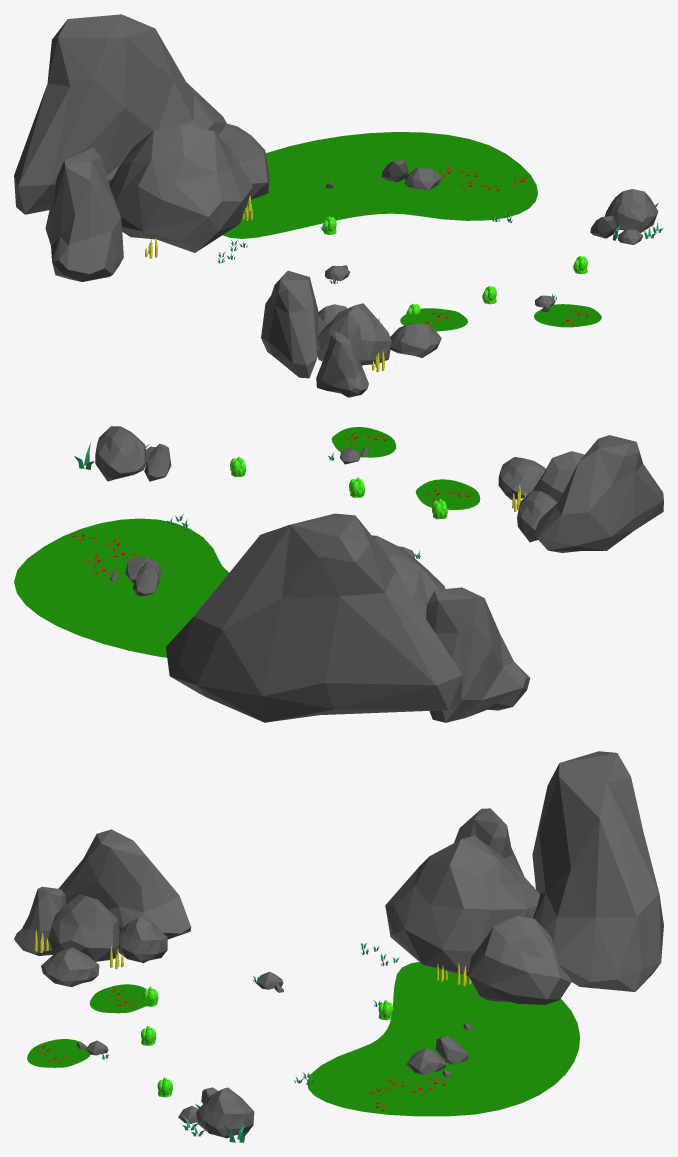
File: tmgtchi.glb
The picture shows the model from 3 angles, top to bottom: view 1: azimuth 30°, elevation 25°; view 2: azimuth 150°, elevation 25°; view 3: azimuth 270°, elevation 25°; orthographic projection. The views are drawn at different scales.
Visible parts, largest first — view 1: BézierCircle, rocktall.006, rock2.002, rocktall.003, rocktall.002, rock2.004, rocktall.001, rock2.003, rock2.001, rock2.006, Circle.001, Circle (+1 smaller); view 2: rocktall.006, BézierCircle, rocktall.002, rocktall.003, rock2.001, rock2.002, Circle, rock2.006, Circle.001, rock2.004, rock2.005, rock1 (+1 smaller); view 3: BézierCircle, rocktall.006, rock2.002, rocktall.002, rock2.003, rock2.004, rock2.001, rocktall.001, rock2.005, rocktall.003, rock2.006, Circle.001 (+3 smaller).
Boxes of the visible parts, x1,y1,x2,y2 form: BézierCircle: (223,132,537,238); rocktall.006: (14,14,226,214); rock2.002: (109,124,252,252); rocktall.003: (45,147,123,281); rocktall.002: (261,270,325,378); rock2.004: (317,303,391,365); rocktall.001: (316,331,368,397); rock2.003: (208,122,269,199); rock2.001: (604,189,658,232); rock2.006: (390,323,441,357); Circle.001: (534,304,601,327); Circle: (400,308,467,331); rocktall.006: (166,513,462,722); BézierCircle: (14,518,229,657); rocktall.002: (534,435,663,552); rocktall.003: (426,587,530,722); rock2.001: (95,426,148,481); rock2.002: (372,535,444,617); Circle: (415,479,480,509); rock2.006: (498,457,545,499); Circle.001: (331,427,395,457); rock2.004: (532,451,584,502); rock2.005: (517,491,557,542); rock1: (144,443,171,481); BézierCircle: (307,962,579,1116); rocktall.006: (532,751,663,991); rock2.002: (385,835,540,976); rocktall.002: (58,829,191,939); rock2.003: (468,916,571,1004); rock2.004: (48,894,119,961); rock2.001: (196,1087,254,1138); rocktall.001: (14,886,65,955); rock2.005: (118,916,167,963); rocktall.003: (454,808,524,876); rock2.006: (41,947,99,986); Circle.001: (27,1039,90,1067).
Bounding box in the file's own units: 54.97 × 20.22 × 57.78.
